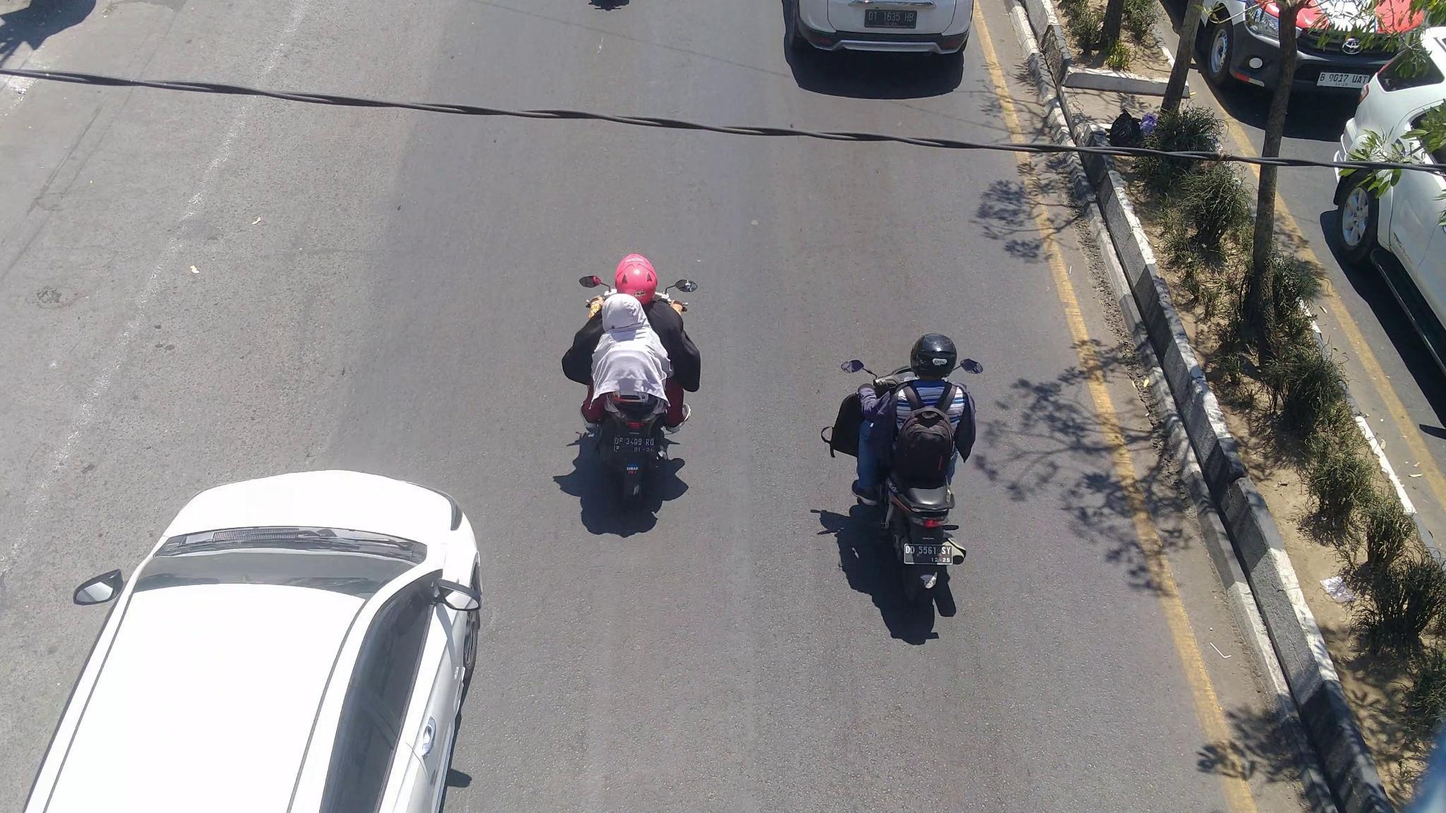Helmet: (900, 327, 967, 389), (608, 247, 667, 307)
bike: (835, 353, 984, 613), (571, 264, 705, 514)
no-helmet: (596, 292, 653, 337)
number-plate: (899, 542, 956, 569), (612, 433, 658, 461)
rider: (566, 259, 708, 435), (858, 327, 976, 505), (584, 299, 687, 434)
